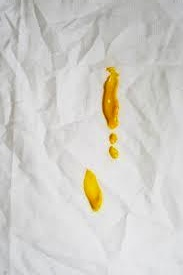mustard: (97, 63, 126, 131), (81, 166, 100, 209), (107, 144, 119, 159), (108, 133, 116, 141)
